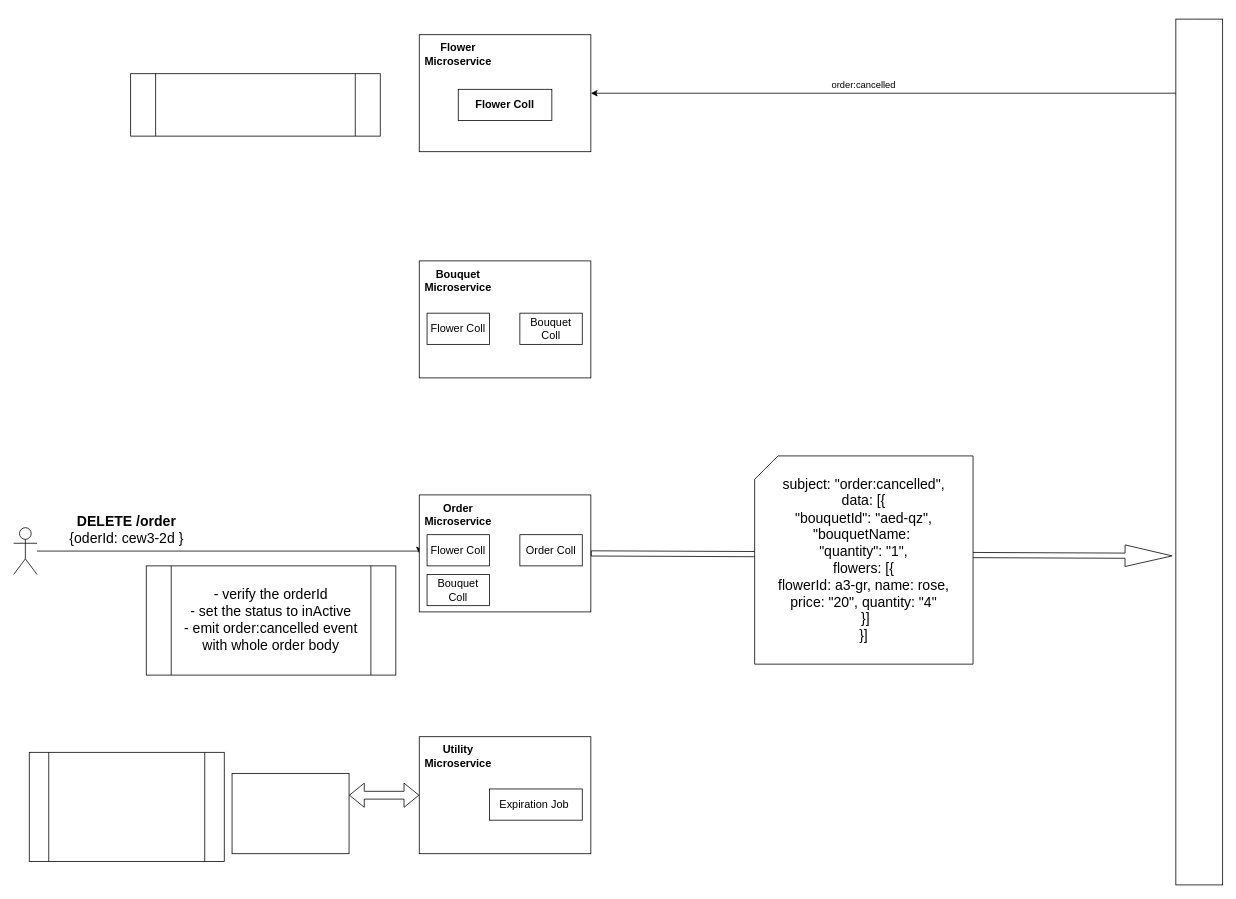
This 1236x899 diagram has some shape labels left out. Here are the shapes that lost their labels. From the top down, the centre of each, then its label:
At (255,104): "- increase the quantity of flowers - emit event of flowers:updated".
At (1199,451): "E V E N T B U S".
At (25,550): "Actor".
At (126,807): "- start a timer for FIXED time after which order:timeout event is created".
At (290,813): "Redis in-mem".
